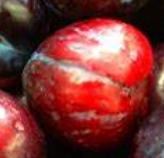plum_B: (19, 17, 156, 149)
